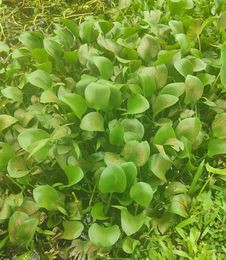water_hyacinth: (12, 21, 219, 240)
